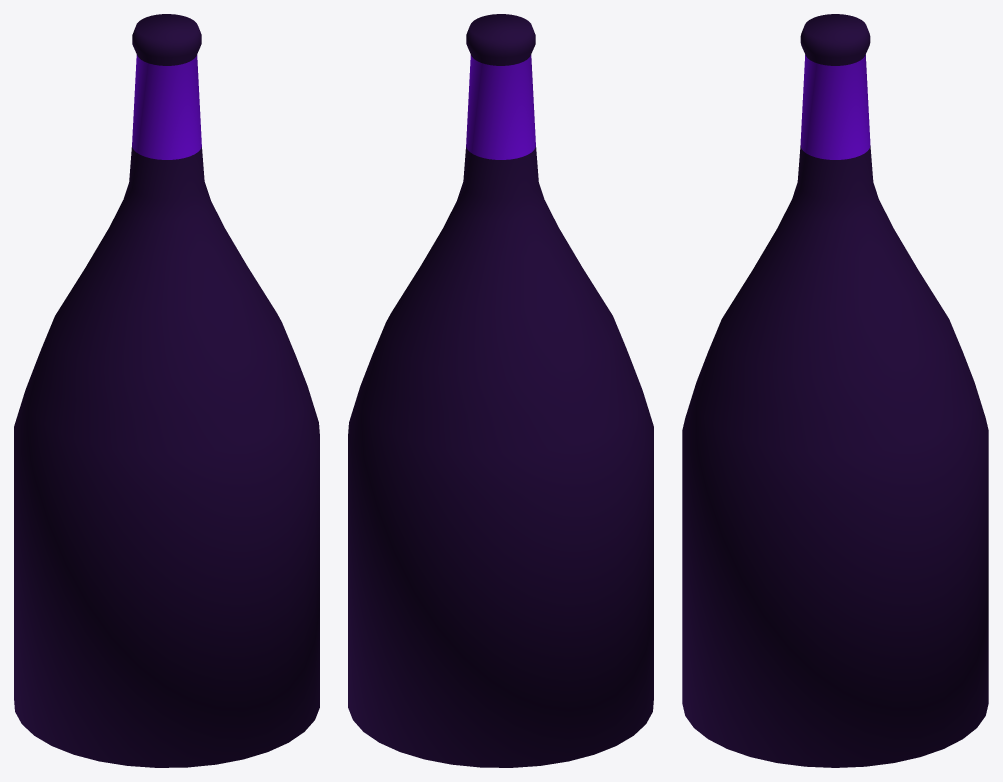
The model's file is BottleofWine.fbx.
3 renders of one model, left to right at view 1: azimuth 30°, elevation 25°; view 2: azimuth 150°, elevation 25°; view 3: azimuth 270°, elevation 25°, orthographic.
Visible parts, largest first — view 1: Circle; view 2: Circle; view 3: Circle.
Part boxes in pixels (box(x1,y1,x2,y2)): Circle: box(14, 14, 319, 767); Circle: box(348, 14, 653, 767); Circle: box(682, 14, 988, 767).
Size of the model in its own units: 43.68 by 106 by 43.68.
